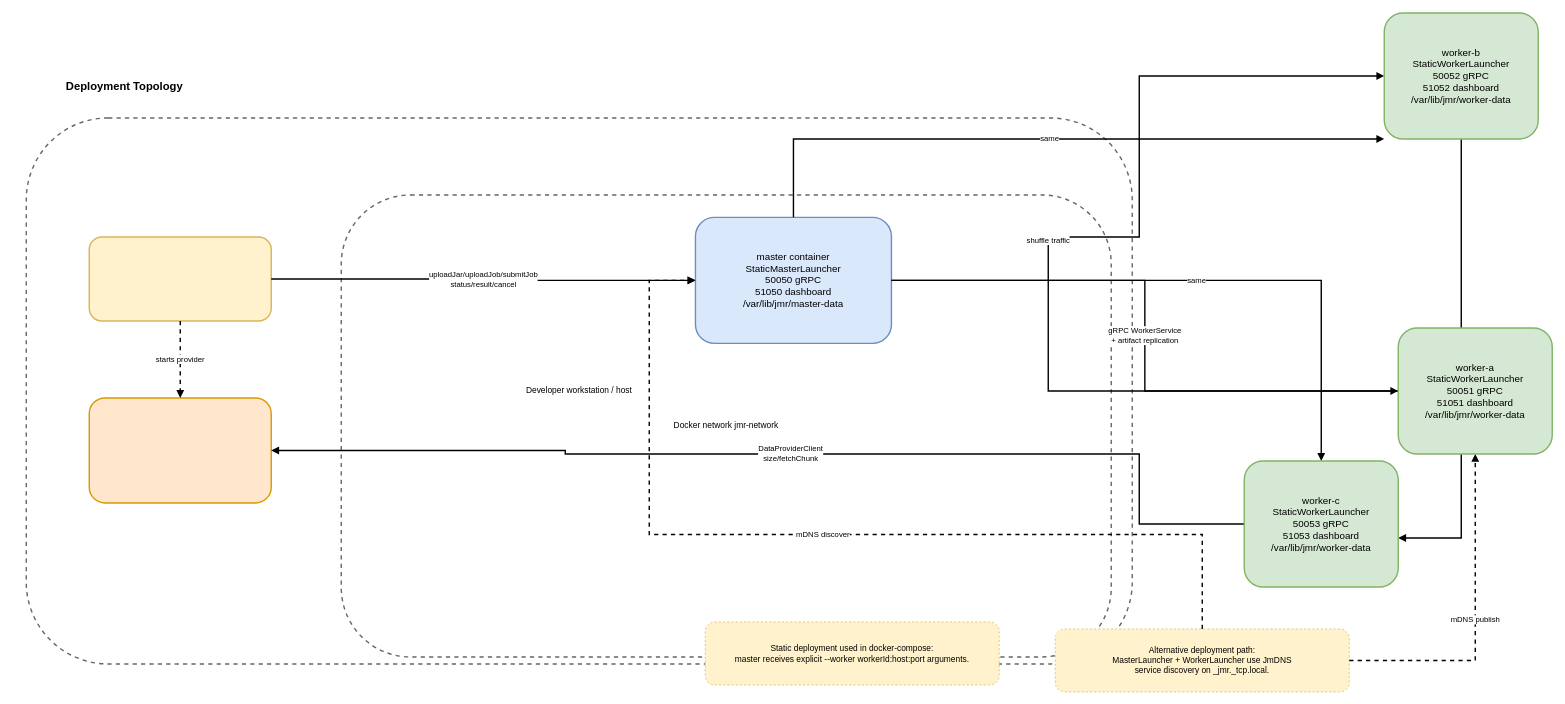
Some shapes in this 1565 by 704 pixel diagram are drawn without their labels. Each missing label, with the centre of its shape:
"LocalGrpcDataProvider serves serialized input on dynamic gRPC port" belongs at (180,450).
"Submitter / CLI process MyWcJob or InteractiveClient" belongs at (180,278).
